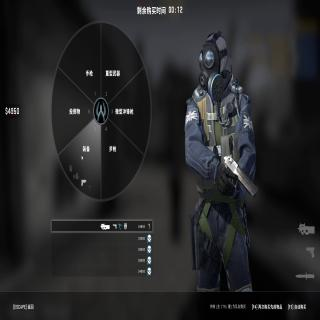CT-Body: (183, 32, 258, 292)
CT-Head: (198, 32, 226, 86)
